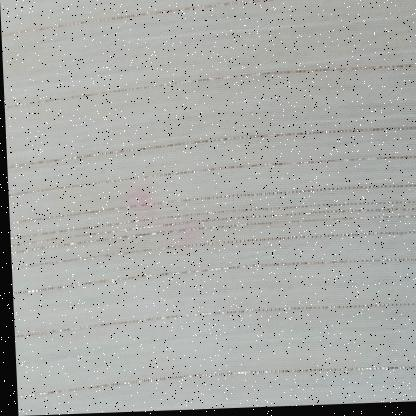spot: (108, 190, 160, 223), (173, 218, 201, 253)
